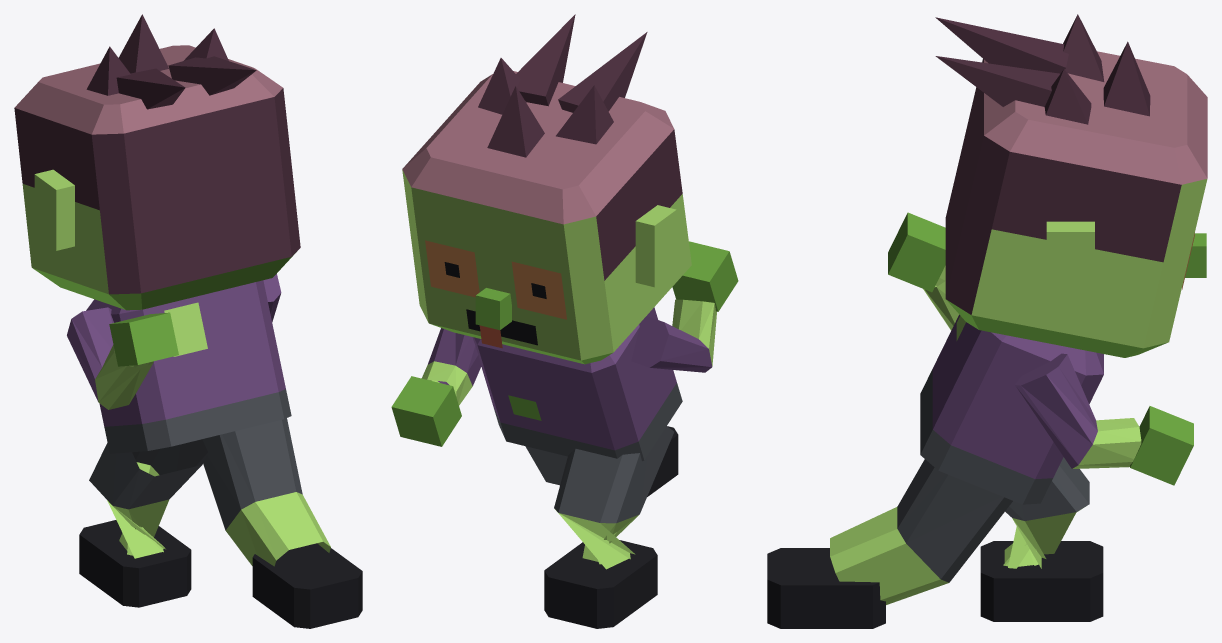
File: enm_runner.glb
The picture shows the model from 3 angles, left to right: view 1: azimuth 30°, elevation 25°; view 2: azimuth 150°, elevation 25°; view 3: azimuth 270°, elevation 25°; orthographic projection. The views are drawn at different scales.
Visible parts, largest first — view 1: enm_runner; view 2: enm_runner; view 3: enm_runner.
Boxes of the visible parts, left/top/right/bottom form: enm_runner: left=14, top=14, right=362, bottom=628; enm_runner: left=391, top=14, right=738, bottom=628; enm_runner: left=767, top=14, right=1207, bottom=628.
Size of the model in its own units: 0.7236 by 1.59 by 1.08.
Materials: 1 (1 with a texture image).
